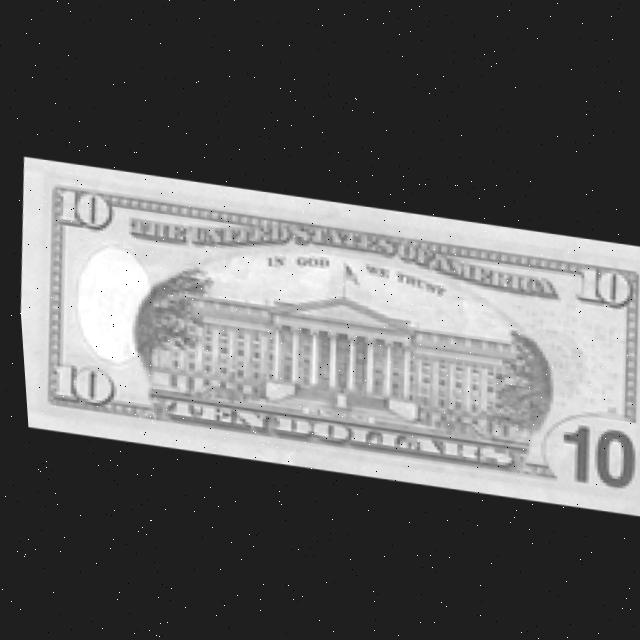banknote: (8, 150, 640, 511)
